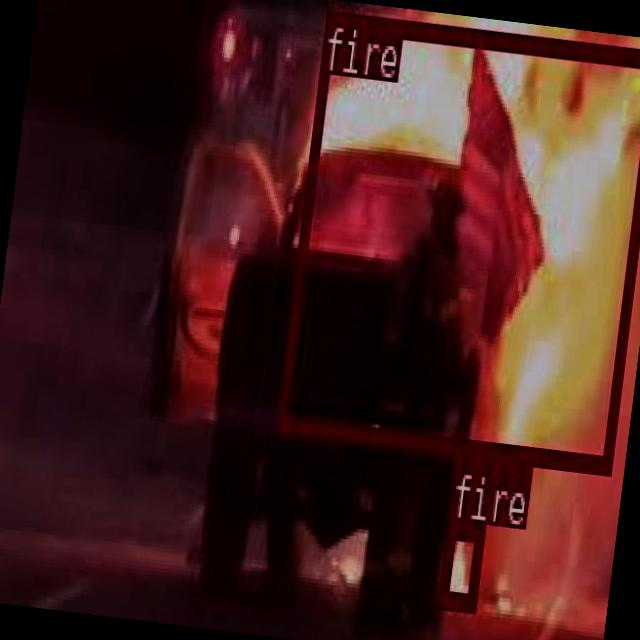fire: (274, 6, 640, 470), (436, 519, 483, 610)
